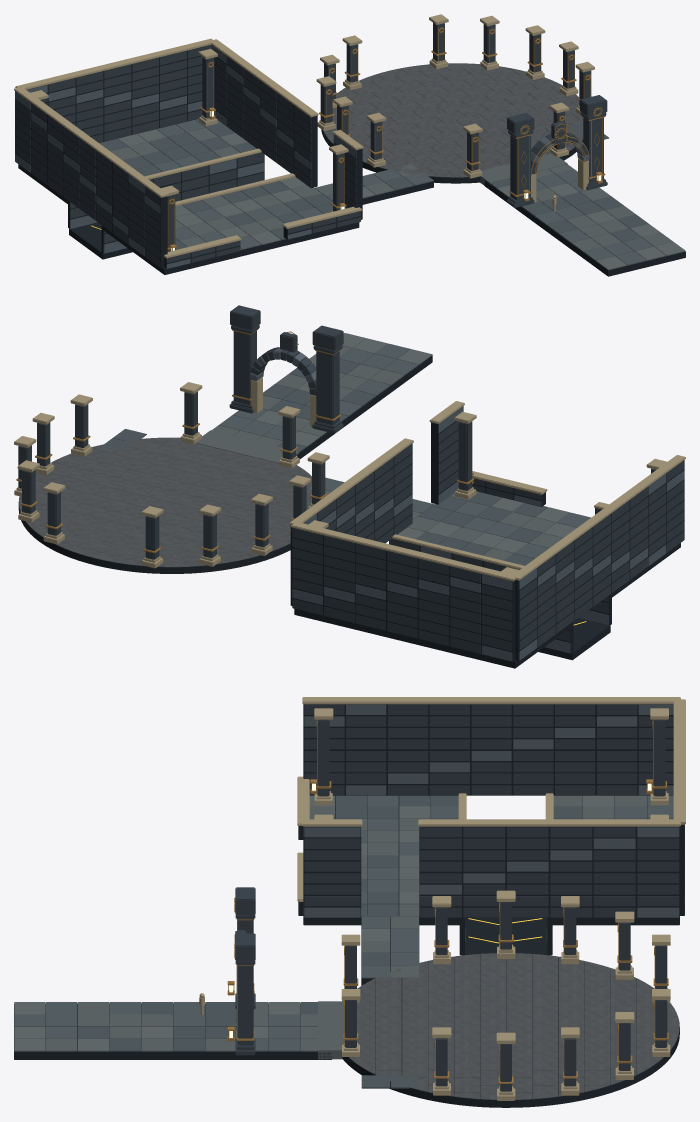
The model's file is fracture-static-v02.glb.
3 renders of one model, top to bottom at view 1: azimuth 30°, elevation 25°; view 2: azimuth 150°, elevation 25°; view 3: azimuth 270°, elevation 25°, orthographic. The views are drawn at different scales.
Visible parts, largest first — view 1: fracture-static-v02 Basalt • charcoal, fracture-static-v02 Quiet basalt 0, fracture-static-v02 Recesses and grout, fracture-static-v02 Ash stone • warm trim, fracture-static-v02 Floor stone 3, fracture-static-v02 Floor stone 1, fracture-static-v02 Basalt • blue grey bevels, fracture-static-v02 Floor stone 0, fracture-static-v02 Floor stone 2, fracture-static-v02 Bronze • forged warm; view 2: fracture-static-v02 Basalt • charcoal, fracture-static-v02 Quiet basalt 0, fracture-static-v02 Recesses and grout, fracture-static-v02 Ash stone • warm trim, fracture-static-v02 Basalt • blue grey bevels, fracture-static-v02 Floor stone 1, fracture-static-v02 Floor stone 3, fracture-static-v02 Floor stone 0, fracture-static-v02 Floor stone 2, fracture-static-v02 Bronze • forged warm; view 3: fracture-static-v02 Basalt • charcoal, fracture-static-v02 Quiet basalt 0, fracture-static-v02 Recesses and grout, fracture-static-v02 Ash stone • warm trim, fracture-static-v02 Floor stone 1, fracture-static-v02 Floor stone 0, fracture-static-v02 Basalt • blue grey bevels, fracture-static-v02 Floor stone 3, fracture-static-v02 Floor stone 2, fracture-static-v02 Bronze • forged warm.
Part boxes in pixels (<box>): fracture-static-v02 Basalt • charcoal: <box>15,23,607,267</box>; fracture-static-v02 Quiet basalt 0: <box>323,63,583,177</box>; fracture-static-v02 Recesses and grout: <box>15,45,685,276</box>; fracture-static-v02 Ash stone • warm trim: <box>14,14,594,258</box>; fracture-static-v02 Floor stone 3: <box>99,122,648,249</box>; fracture-static-v02 Floor stone 1: <box>110,128,673,251</box>; fracture-static-v02 Basalt • blue grey bevels: <box>15,45,589,268</box>; fracture-static-v02 Floor stone 0: <box>154,119,653,265</box>; fracture-static-v02 Floor stone 2: <box>117,129,685,270</box>; fracture-static-v02 Bronze • forged warm: <box>44,26,605,251</box>; fracture-static-v02 Basalt • charcoal: <box>18,305,684,653</box>; fracture-static-v02 Quiet basalt 0: <box>19,437,311,567</box>; fracture-static-v02 Recesses and grout: <box>18,355,684,668</box>; fracture-static-v02 Ash stone • warm trim: <box>14,377,685,581</box>; fracture-static-v02 Basalt • blue grey bevels: <box>249,347,684,661</box>; fracture-static-v02 Floor stone 1: <box>196,346,562,560</box>; fracture-static-v02 Floor stone 3: <box>100,359,547,565</box>; fracture-static-v02 Floor stone 0: <box>219,343,590,661</box>; fracture-static-v02 Floor stone 2: <box>255,333,576,553</box>; fracture-static-v02 Bronze • forged warm: <box>16,329,474,553</box>; fracture-static-v02 Basalt • charcoal: <box>235,704,684,1091</box>; fracture-static-v02 Quiet basalt 0: <box>348,953,679,1099</box>; fracture-static-v02 Recesses and grout: <box>14,704,684,1107</box>; fracture-static-v02 Ash stone • warm trim: <box>199,697,685,1100</box>; fracture-static-v02 Floor stone 1: <box>46,795,646,1059</box>; fracture-static-v02 Floor stone 0: <box>14,795,673,1051</box>; fracture-static-v02 Basalt • blue grey bevels: <box>303,704,684,941</box>; fracture-static-v02 Floor stone 3: <box>78,795,673,1088</box>; fracture-static-v02 Floor stone 2: <box>14,795,614,1051</box>; fracture-static-v02 Bronze • forged warm: <box>227,719,668,1090</box>.
Size of the model in its own units: 50.67 by 12.02 by 46.43.
12 materials, 1 textured.
